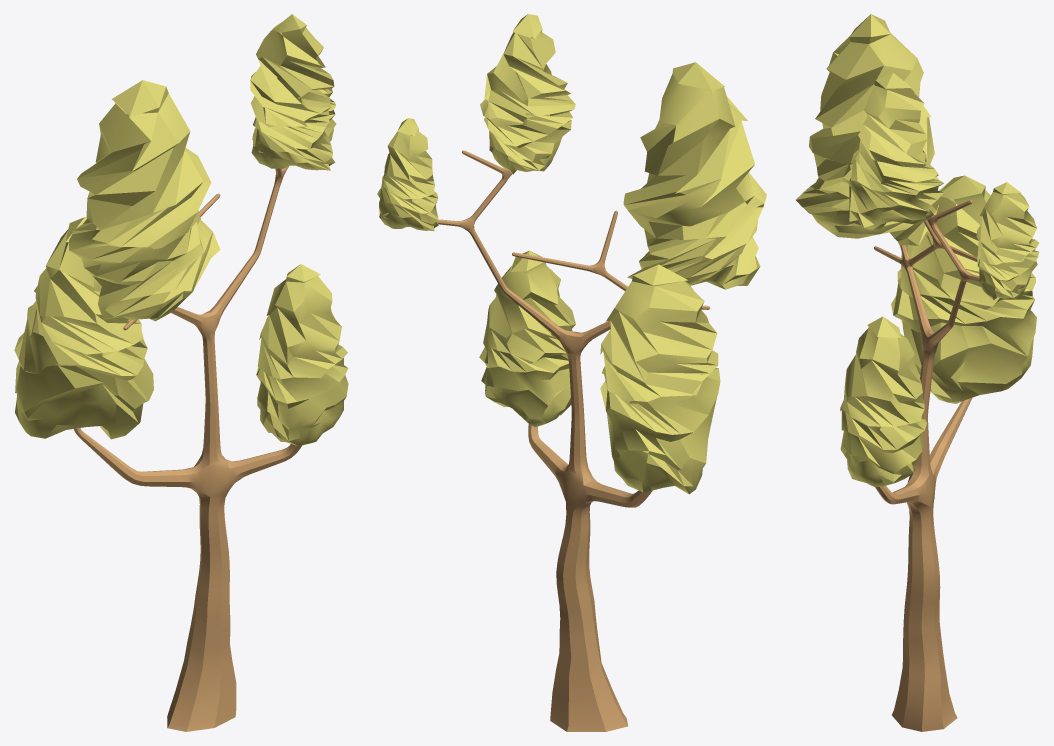
File: tree.fbx
The picture shows the model from 3 angles, left to right: view 1: azimuth 30°, elevation 25°; view 2: azimuth 150°, elevation 25°; view 3: azimuth 270°, elevation 25°; orthographic projection. The views are drawn at different scales.
Parts seen in each view (by area): view 1: Tree.002; view 2: Tree.002; view 3: Tree.002.
Part boxes in pixels (x1,y1,x2,y2): Tree.002: (14, 14, 348, 731); Tree.002: (377, 14, 766, 731); Tree.002: (796, 14, 1039, 731).
Size of the model in its own units: 447 by 919 by 299.
